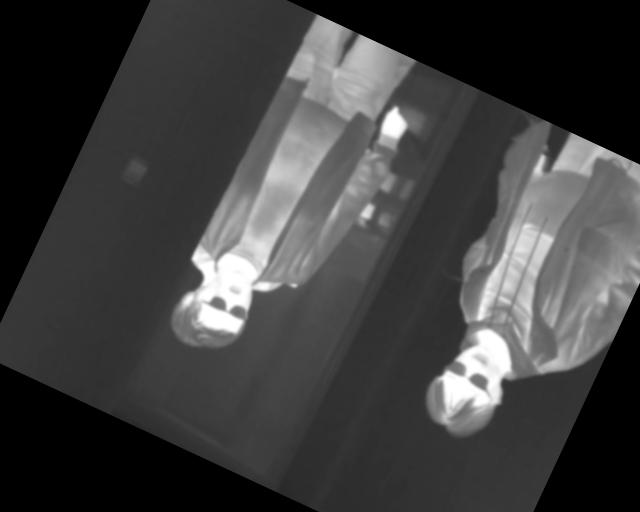face: (414, 330, 522, 450), (176, 257, 264, 358)
